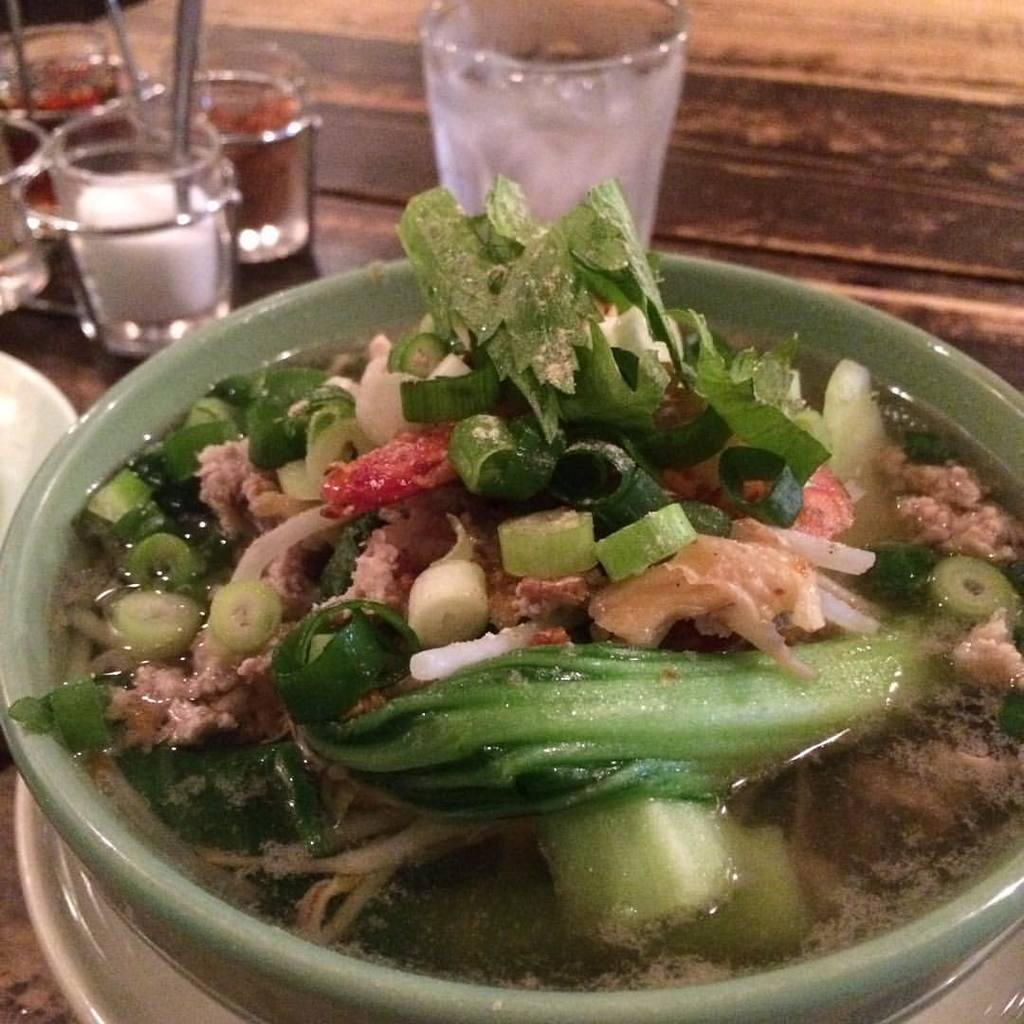salad: (12, 171, 1017, 992)
